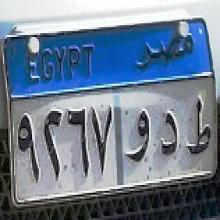2: (41, 105, 65, 182)
6: (66, 102, 91, 178)
7: (91, 107, 113, 175)
9: (16, 111, 40, 184)
Taa: (182, 95, 212, 164)
daal: (158, 107, 178, 159)
waw: (124, 106, 152, 169)
